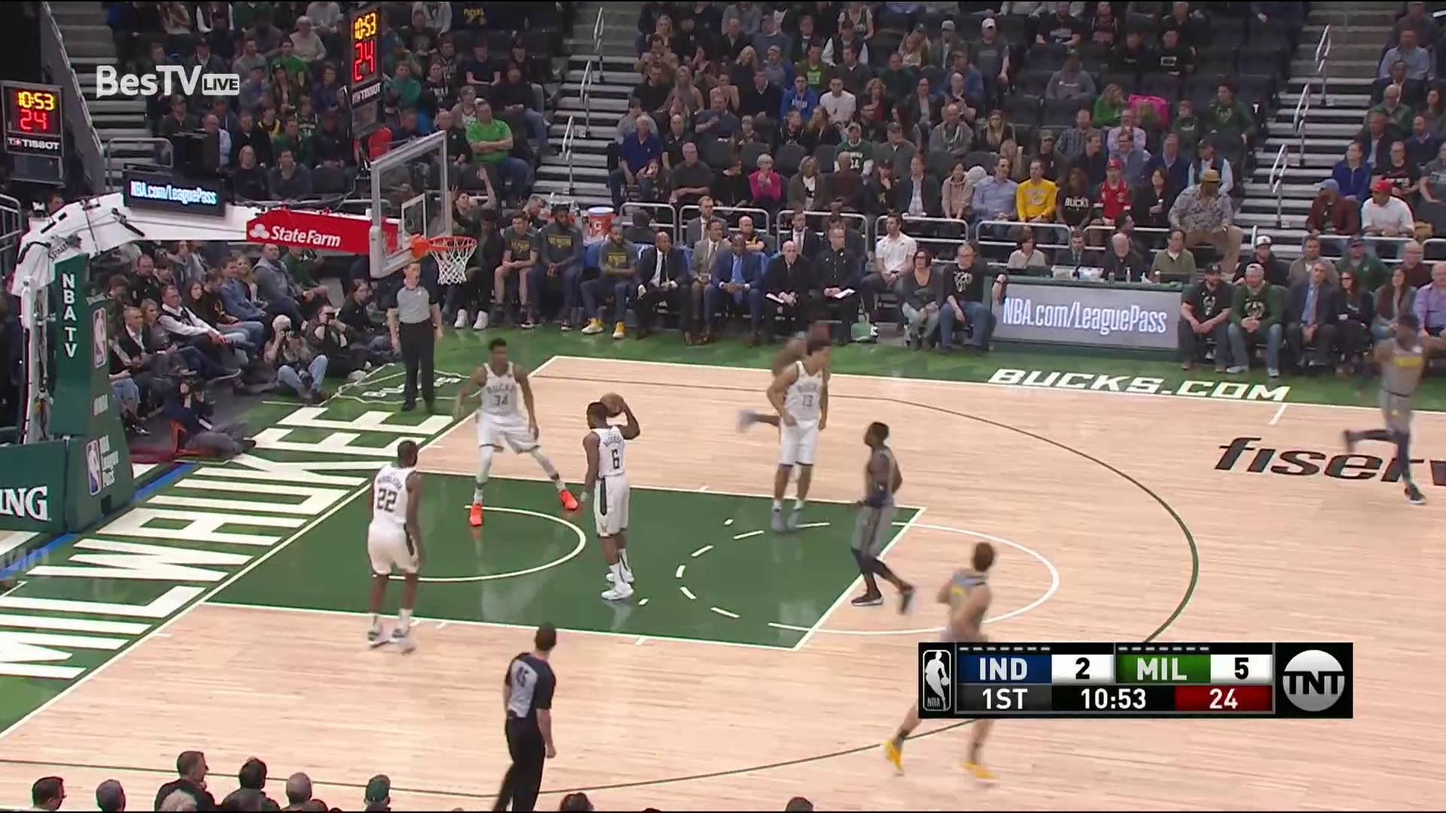basketball: (599, 391, 625, 418)
